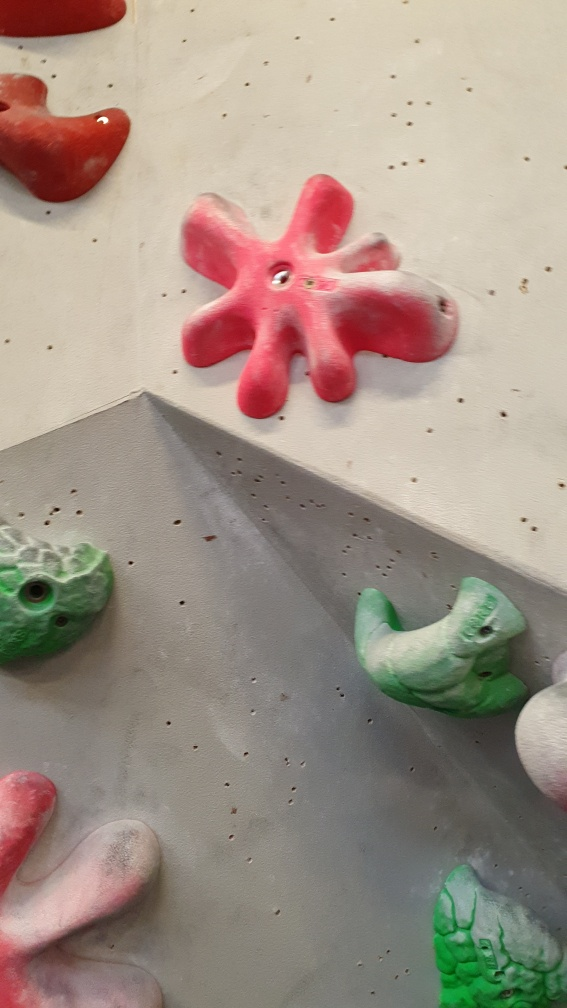Jug: (349, 567, 541, 721), (424, 853, 567, 1006)
Octopus Pinch: (175, 164, 463, 423), (1, 759, 171, 1007)
Sloper: (516, 660, 567, 827)
